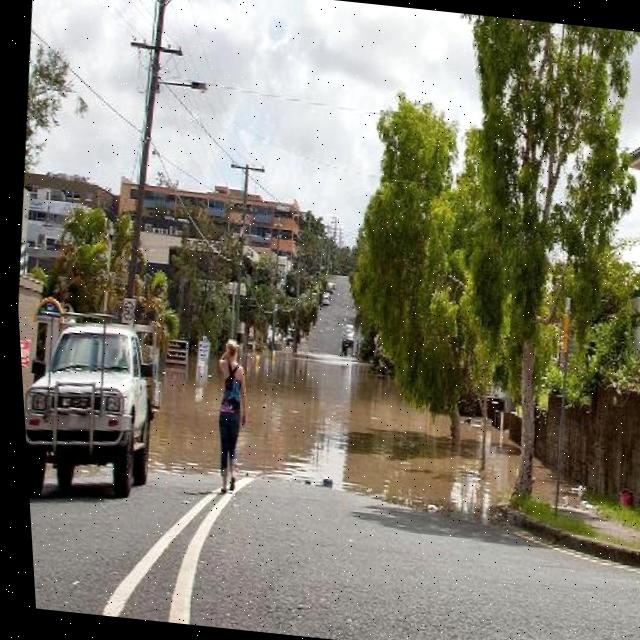civilian: (172, 316, 296, 528)
